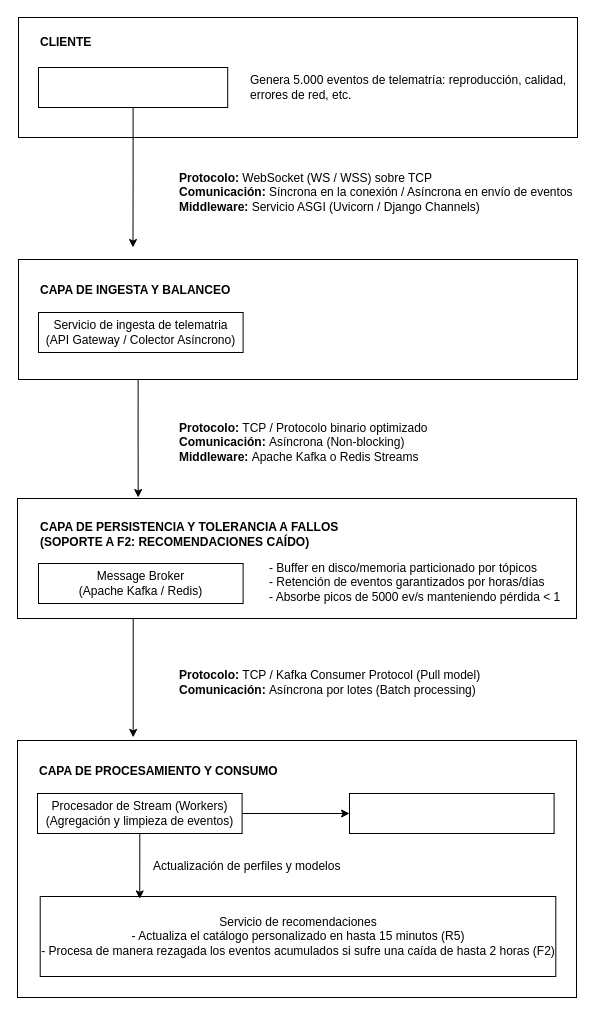
The diagram is 595 pixels wide and 1015 high, and some of its shapes have lost their labels. Here are the shapes that lost their labels. From the top down, the centre of each, then its label:
At (133,87): "Servicio de ingesta de telematria (API Gateway)".
At (451,813): "Base de datos analítica (Time-Series DB / Data Lake)".
